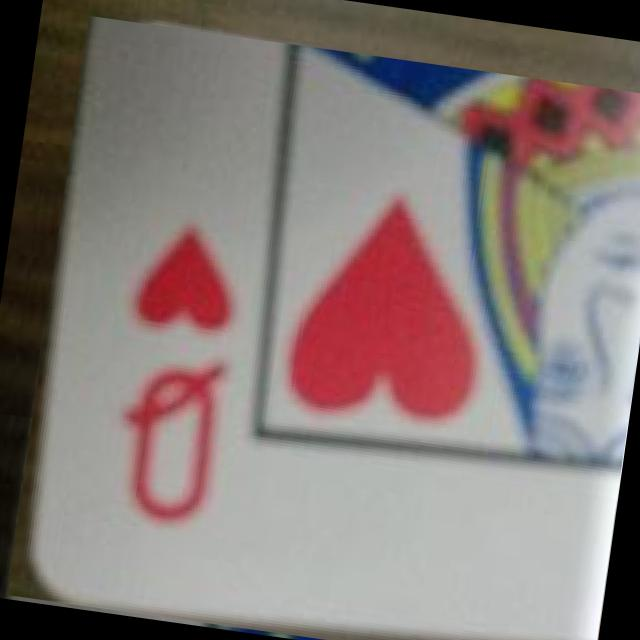Queen of hearts: (30, 18, 640, 640)
